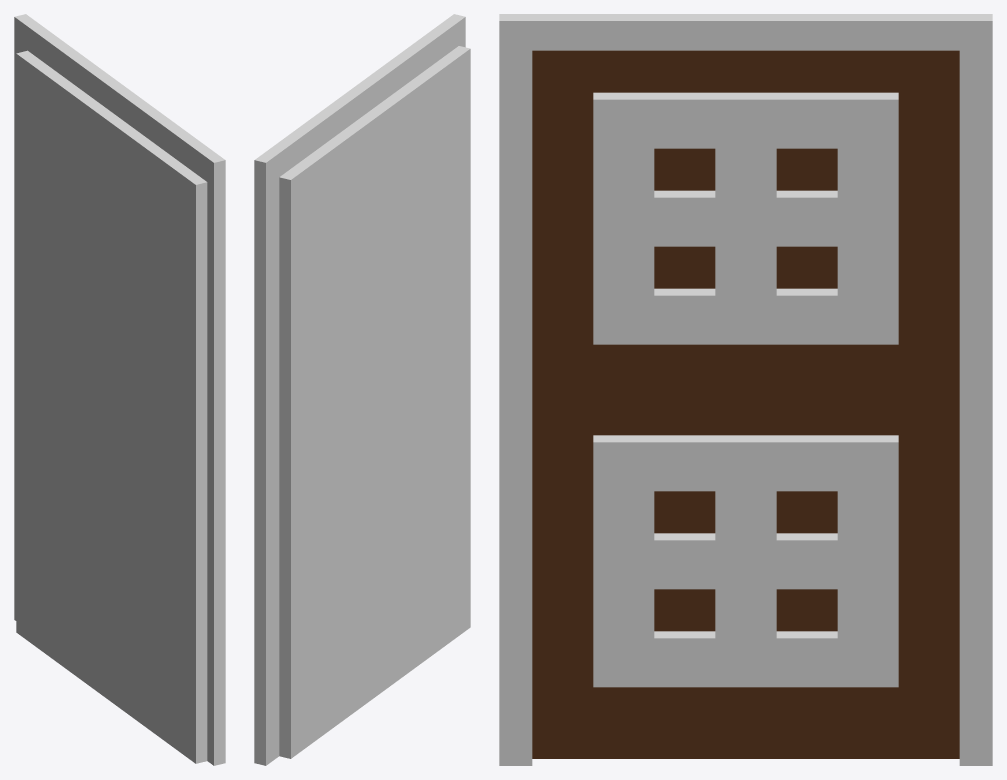
The model's file is door.fbx.
The picture shows the model from 3 angles, left to right: view 1: azimuth 30°, elevation 25°; view 2: azimuth 150°, elevation 25°; view 3: azimuth 270°, elevation 25°; orthographic projection. The views are drawn at different scales.
Parts seen in each view (by area): view 1: Cube; view 2: Cube; view 3: Cube.
Part boxes in pixels (x1=…): Cube: x1=14, y1=14, x2=225, y2=765; Cube: x1=254, y1=14, x2=470, y2=765; Cube: x1=499, y1=14, x2=992, y2=765.
Bounding box in the file's own units: 12.5 × 313 × 188.
